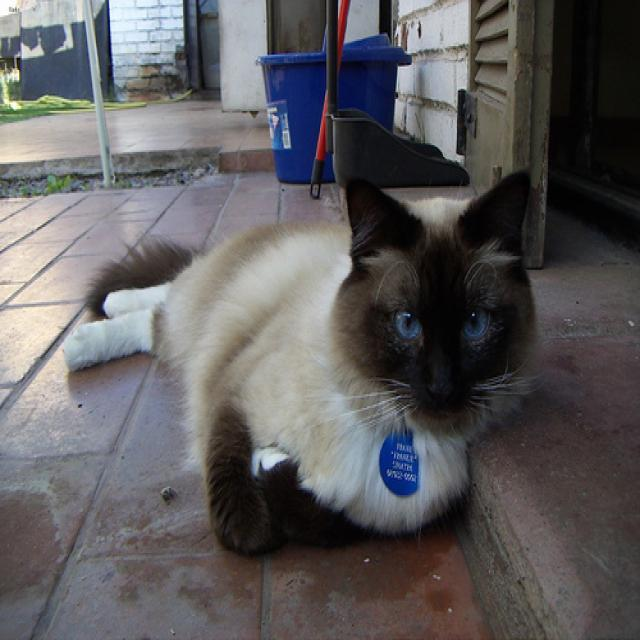Birman: (338, 163, 546, 439)
